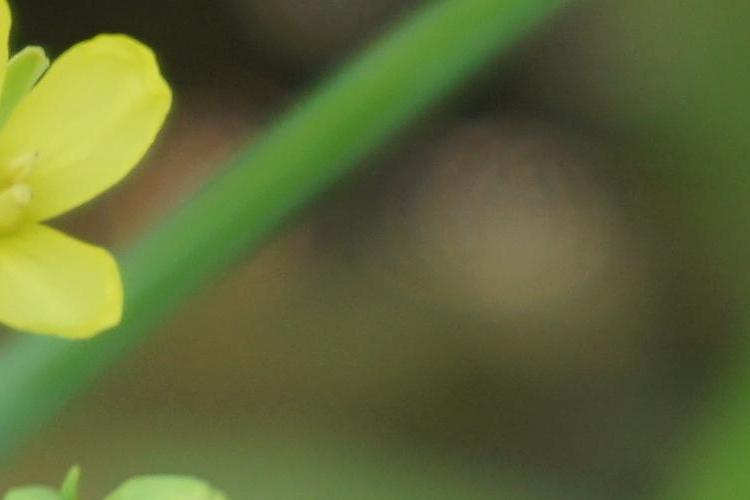yellow: (2, 7, 174, 339)
